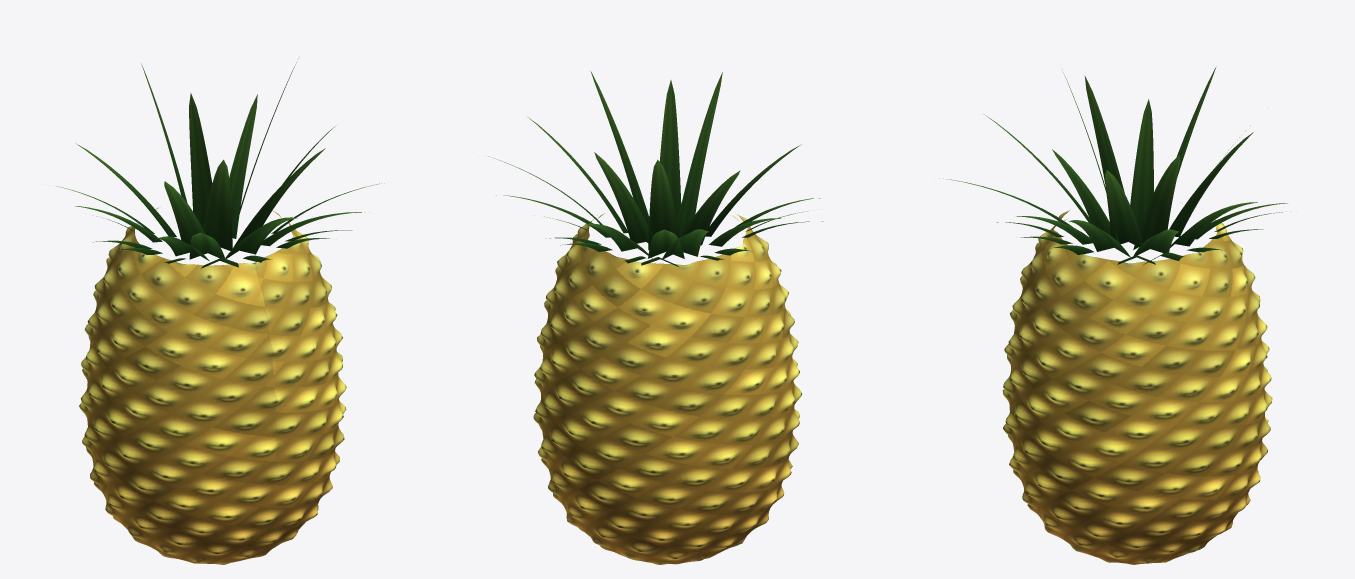
Rendered from Pineapple.glb.
The picture shows the model from 3 angles, left to right: view 1: azimuth 30°, elevation 25°; view 2: azimuth 150°, elevation 25°; view 3: azimuth 270°, elevation 25°; orthographic projection.
Parts seen in each view (by area): view 1: geometry_0; view 2: geometry_0; view 3: geometry_0.
Boxes of the visible parts, x1=… form: geometry_0: x1=56, y1=62, x2=384, y2=564; geometry_0: x1=488, y1=71, x2=823, y2=564; geometry_0: x1=939, y1=66, x2=1287, y2=564.
Bounding box in the file's own units: 2.4 × 3.14 × 2.39.
1 material, 1 textured.
